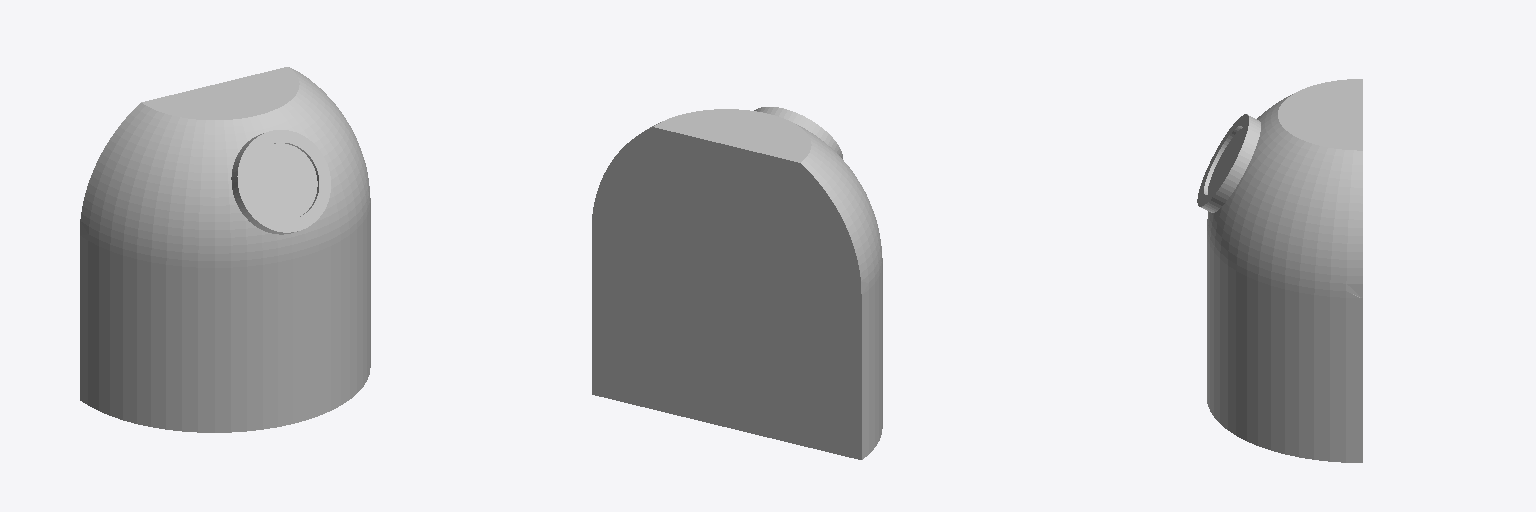
Rendered from soyuzseat1.obj.
3 views of the same model, side by side, from view 1: azimuth 30°, elevation 25°; view 2: azimuth 150°, elevation 25°; view 3: azimuth 270°, elevation 25° (orthographic).
Visible parts, largest first — view 1: Cylinder1; view 2: Cylinder1; view 3: Cylinder1.
Boxes of the visible parts, x1,y1,x2,y2 form: Cylinder1: [80, 67, 370, 432]; Cylinder1: [592, 107, 882, 459]; Cylinder1: [1197, 79, 1362, 462].
Bounding box in the file's own units: 6 × 6 × 3.18.